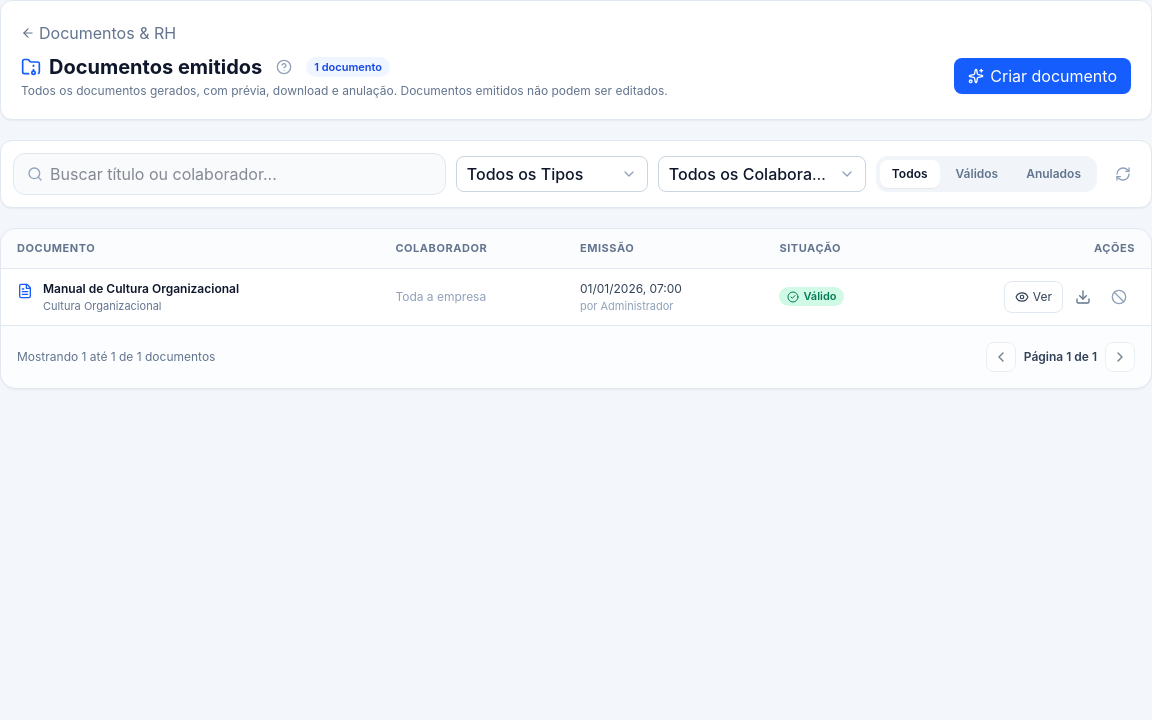
Test: DocumentsArchivePage › opens void modal when clicking void button
Expected: the text "Manual de Cultura Organizacional" is shown, [43,281,239,297]
Click the button named "Anular " at point(1119, 297), box [1103,281,1135,313]
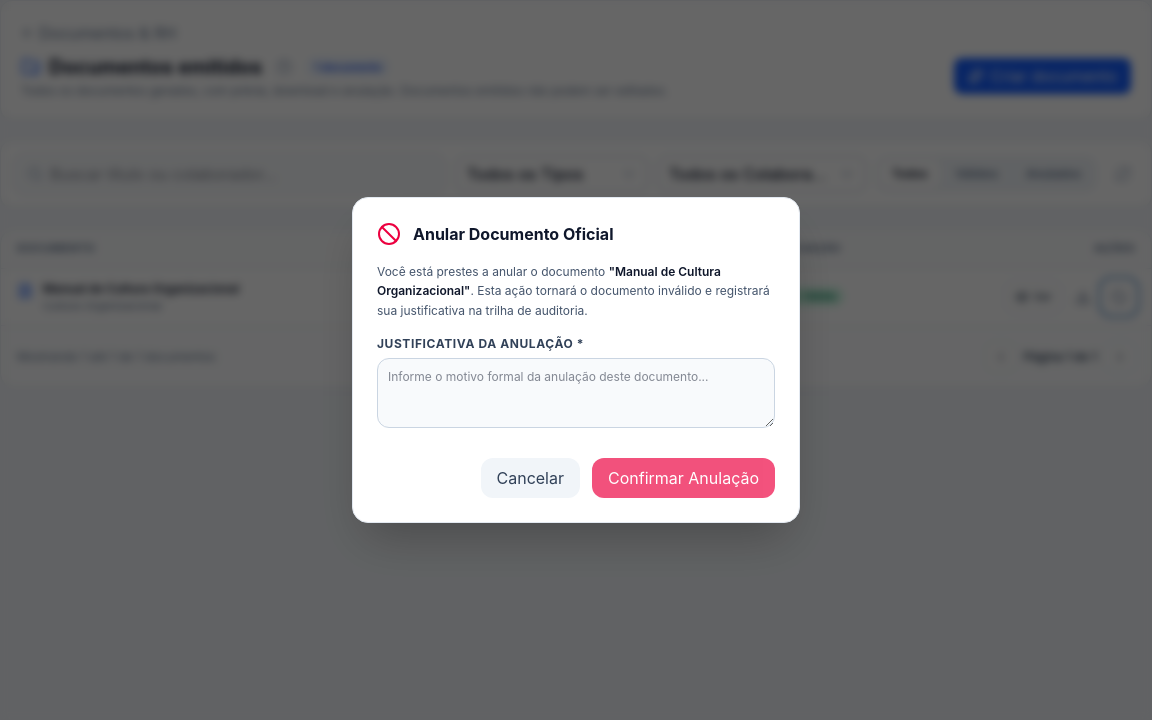
Result: the heading "Anular Documento Oficial" is shown at [413,222,614,246]
Result: the text box with placeholder "Informe o motivo formal da anulação deste documento..." is shown at [377,358,775,428]
